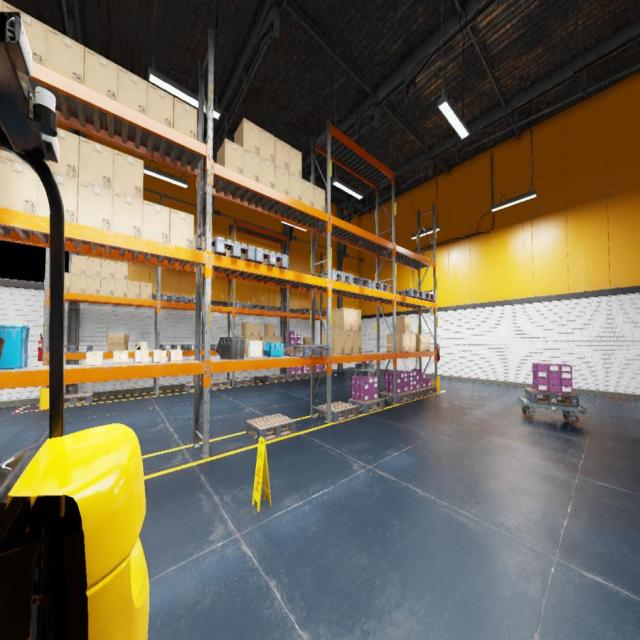box: (3, 1, 46, 66), (46, 26, 85, 85), (0, 156, 38, 214), (38, 173, 78, 223), (78, 137, 114, 190), (85, 47, 118, 101), (46, 128, 80, 180), (78, 181, 112, 231), (112, 150, 144, 200), (118, 66, 148, 115), (112, 191, 143, 238), (142, 199, 170, 244), (147, 82, 173, 128), (173, 98, 197, 140), (170, 208, 194, 250), (235, 117, 260, 156), (217, 138, 243, 175), (260, 127, 275, 164), (243, 148, 259, 182), (322, 331, 344, 355), (332, 308, 352, 332), (260, 157, 275, 189), (275, 137, 289, 171), (274, 165, 289, 195), (289, 145, 302, 178), (106, 334, 130, 351), (0, 150, 27, 165), (289, 172, 302, 202), (302, 178, 313, 207), (71, 254, 86, 275), (387, 334, 404, 352), (393, 316, 410, 334), (70, 274, 86, 293), (86, 257, 102, 276), (134, 342, 149, 362), (314, 185, 325, 212), (86, 276, 100, 295), (100, 278, 114, 296), (114, 279, 127, 298), (101, 259, 114, 278), (416, 334, 430, 351), (86, 351, 103, 365), (139, 282, 152, 300), (115, 262, 128, 280), (127, 281, 140, 298), (344, 332, 353, 354), (113, 350, 128, 363), (353, 309, 361, 332), (152, 349, 166, 362), (354, 332, 362, 354), (242, 322, 254, 336), (168, 350, 182, 361), (235, 336, 246, 349), (264, 324, 275, 336), (405, 334, 411, 351), (65, 272, 70, 292), (260, 336, 268, 348), (245, 336, 252, 349), (411, 334, 416, 352), (253, 324, 260, 336), (303, 337, 310, 345), (202, 236, 205, 251), (193, 235, 196, 250), (0, 0, 3, 12), (275, 337, 281, 342), (269, 337, 275, 342), (253, 336, 260, 340)
forklift: (0, 12, 149, 640)
pallets: (246, 414, 295, 443), (203, 236, 254, 262), (525, 388, 579, 407), (318, 401, 358, 422), (252, 247, 287, 269), (285, 344, 329, 358), (348, 398, 384, 414), (316, 270, 353, 284), (65, 392, 93, 407), (382, 391, 414, 404), (337, 276, 371, 288), (364, 281, 390, 292), (396, 289, 424, 299), (64, 344, 92, 352), (408, 388, 425, 400), (210, 379, 230, 389), (184, 382, 203, 392), (161, 294, 183, 302), (232, 378, 254, 386), (417, 291, 434, 301), (419, 386, 436, 396), (160, 344, 188, 350), (265, 374, 286, 382), (184, 296, 203, 304), (188, 344, 211, 350), (285, 373, 303, 380), (231, 302, 251, 308), (297, 308, 316, 314), (251, 304, 268, 310), (267, 306, 284, 312), (355, 364, 374, 369), (301, 373, 316, 379), (284, 344, 303, 348), (315, 309, 327, 315), (315, 371, 327, 377), (211, 344, 218, 349)
